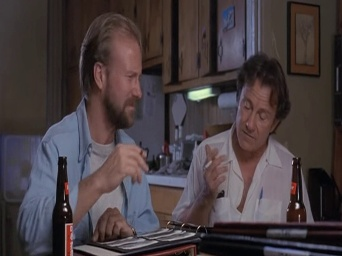smoke: (202, 157, 215, 173)
